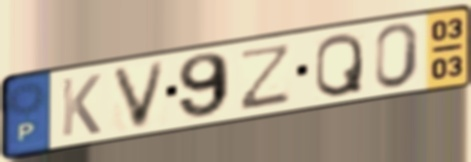0: (372, 21, 422, 91)
9: (176, 50, 236, 123)
K: (59, 71, 103, 140)
Q: (312, 30, 366, 100)
V: (108, 57, 170, 133)
Z: (236, 40, 295, 113)
